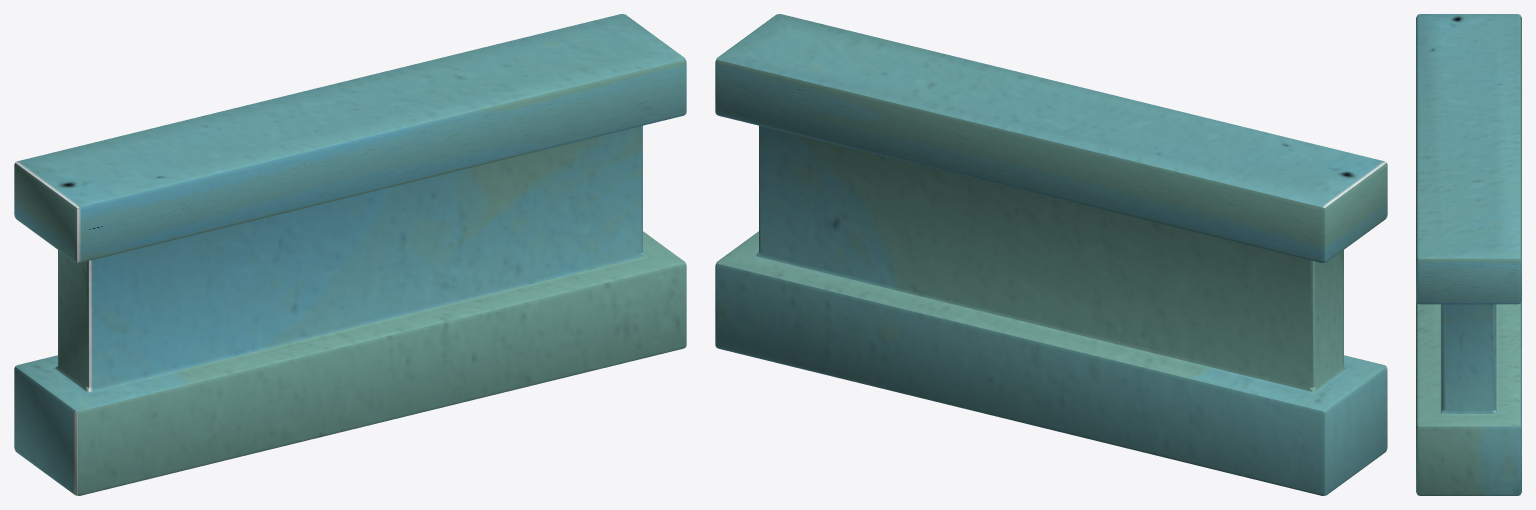
The model's file is TOMB_WALL_2_1.obj.
3 views of the same model, side by side, from view 1: azimuth 30°, elevation 25°; view 2: azimuth 150°, elevation 25°; view 3: azimuth 270°, elevation 25° (orthographic). The views are drawn at different scales.
Visible parts, largest first — view 1: TOMB_WALL_2_1.002; view 2: TOMB_WALL_2_1.002; view 3: TOMB_WALL_2_1.002.
Part boxes in pixels (x1=…): TOMB_WALL_2_1.002: x1=14, y1=14, x2=686, y2=495; TOMB_WALL_2_1.002: x1=715, y1=14, x2=1387, y2=495; TOMB_WALL_2_1.002: x1=1416, y1=14, x2=1521, y2=495.
Bounding box in the file's own units: 2.2 × 1 × 0.4.
1 material, 1 textured.
